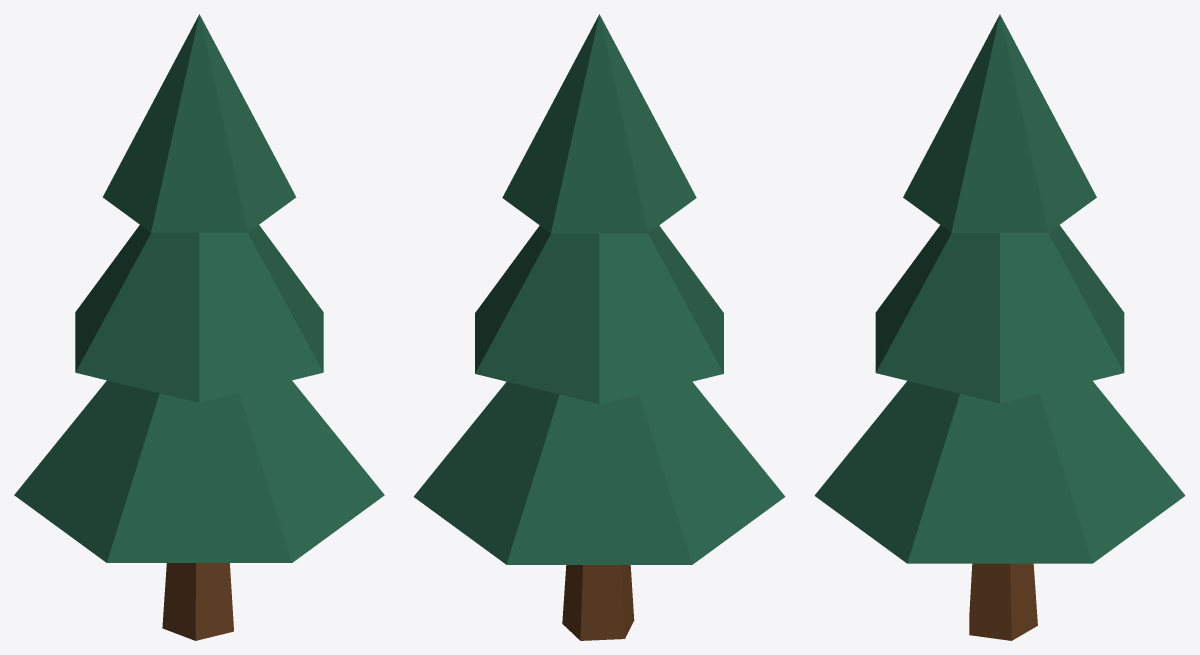
File: TreePine.fbx
3 renders of one model, left to right at view 1: azimuth 30°, elevation 25°; view 2: azimuth 150°, elevation 25°; view 3: azimuth 270°, elevation 25°, orthographic.
Parts seen in each view (by area): view 1: TreePine; view 2: TreePine; view 3: TreePine.
Boxes of the visible parts, left/top/right/bottom form: TreePine: left=14, top=14, right=384, bottom=640; TreePine: left=413, top=14, right=785, bottom=640; TreePine: left=814, top=14, right=1185, bottom=640.
Bounding box in the file's own units: 3.81 × 8 × 4.4.
Materials: 1 (1 with a texture image).
